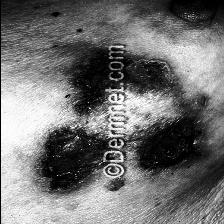Potentially Malignant Skin Tumors: (34, 129, 110, 196), (141, 118, 207, 168)
